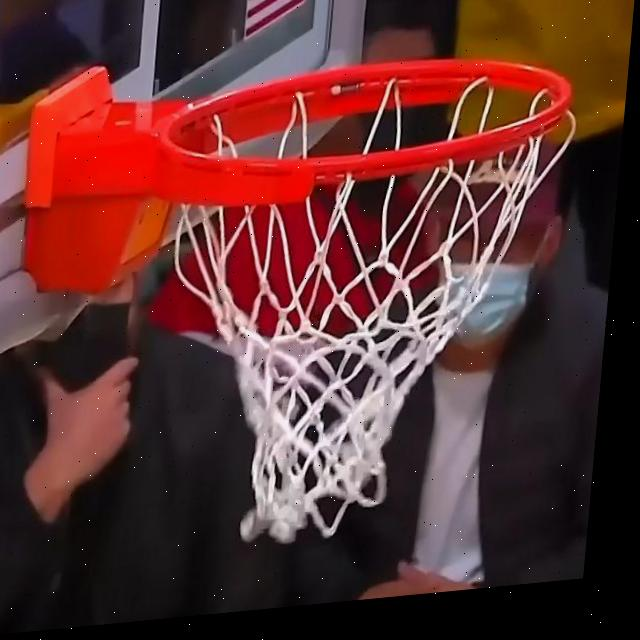hoop: (102, 28, 587, 538)
